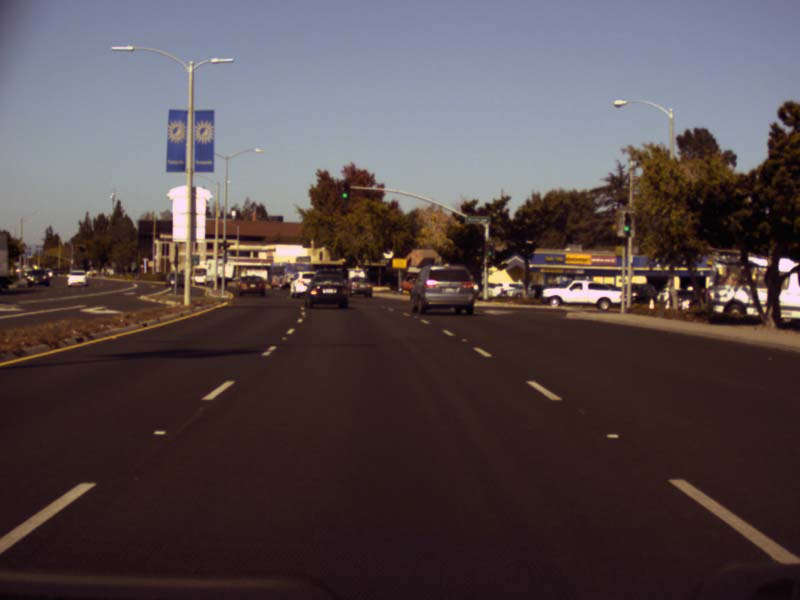Green: (622, 212, 633, 238), (340, 181, 351, 202), (486, 243, 494, 260)
